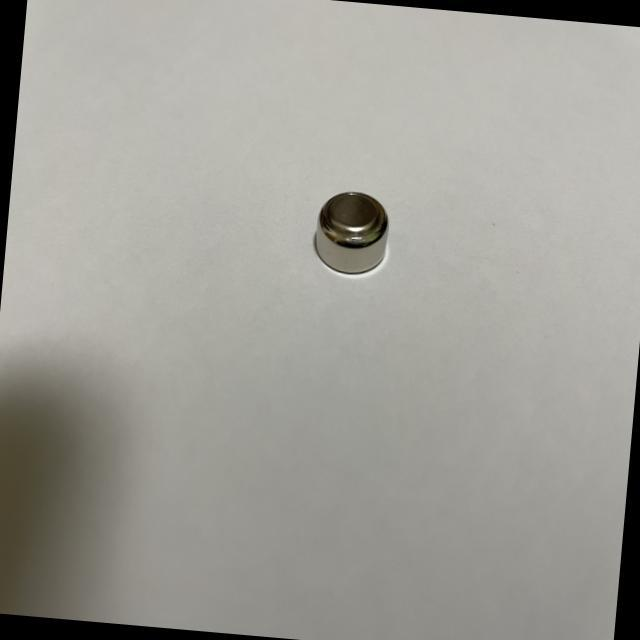COIN: (312, 186, 393, 278)
